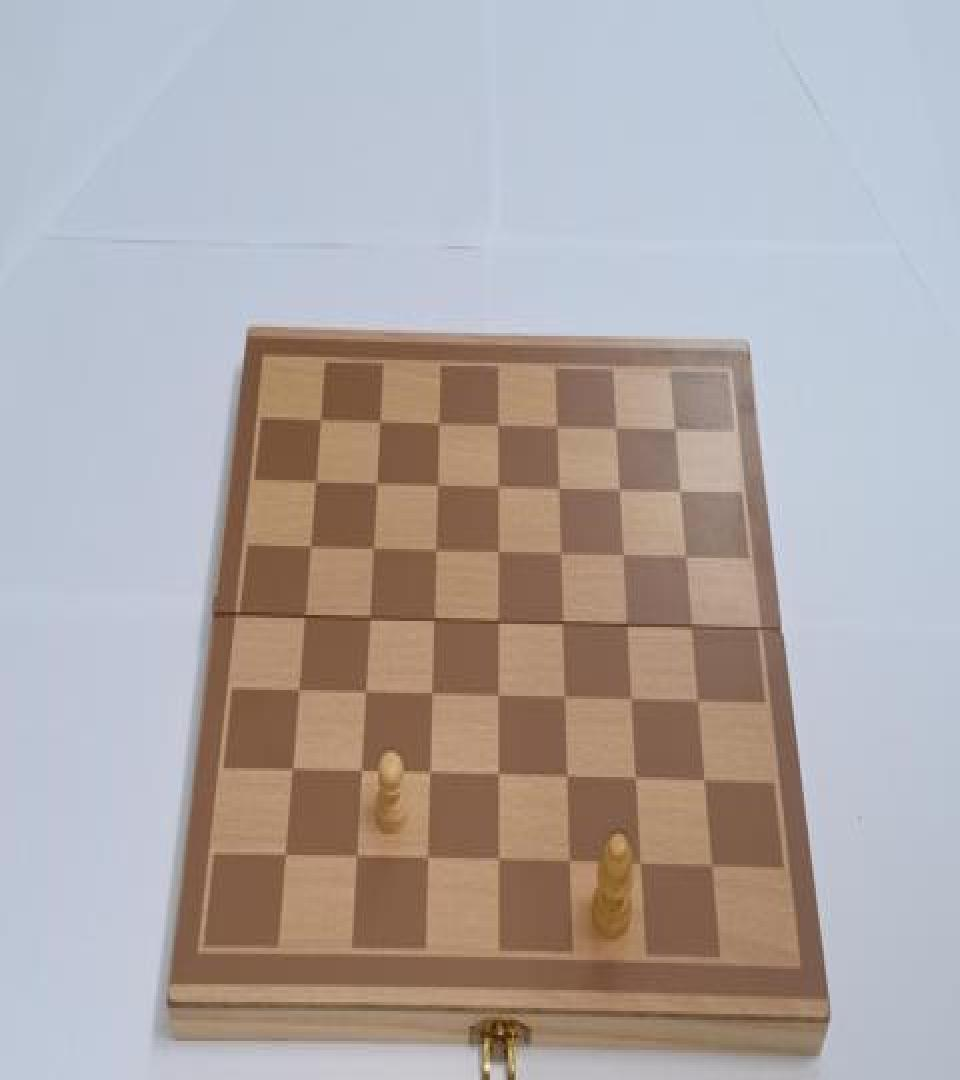xcorner: (309, 472, 327, 500), (284, 760, 302, 788), (374, 412, 392, 440), (353, 760, 371, 788), (613, 478, 631, 506), (674, 478, 692, 506), (315, 411, 333, 438), (304, 538, 322, 565), (291, 681, 309, 708), (277, 844, 295, 871), (370, 474, 388, 501), (366, 538, 384, 565), (362, 609, 380, 636), (358, 683, 376, 710), (348, 846, 366, 873), (433, 414, 451, 441), (429, 540, 447, 567), (427, 609, 445, 636), (424, 684, 442, 711), (422, 762, 440, 789), (419, 846, 437, 873), (492, 414, 510, 441), (491, 610, 509, 637), (491, 684, 509, 711), (551, 415, 569, 442), (552, 477, 570, 504), (556, 612, 574, 639), (562, 849, 580, 876), (610, 417, 628, 444), (617, 543, 635, 570), (620, 612, 638, 639), (624, 687, 642, 714), (628, 765, 646, 792), (633, 849, 651, 876), (669, 417, 687, 444), (679, 545, 697, 572), (691, 687, 709, 714), (697, 766, 715, 793), (704, 851, 722, 878), (298, 608, 316, 634), (431, 476, 449, 502), (492, 476, 510, 502), (492, 542, 510, 568), (491, 764, 509, 790), (491, 848, 509, 874), (554, 542, 572, 568), (558, 686, 576, 712), (560, 764, 578, 790), (685, 614, 703, 640)
